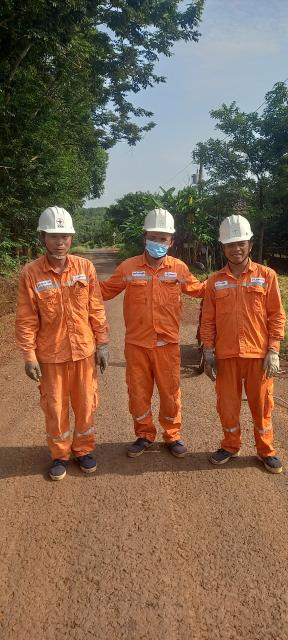gloves: (255, 346, 283, 380), (91, 344, 119, 372), (200, 346, 219, 386), (26, 358, 47, 387)
helmet: (27, 201, 84, 244), (213, 211, 256, 249), (136, 204, 178, 239)
shoes: (254, 443, 287, 477), (120, 428, 153, 460), (208, 438, 236, 470), (75, 447, 100, 479), (159, 430, 189, 456), (48, 457, 73, 487)
